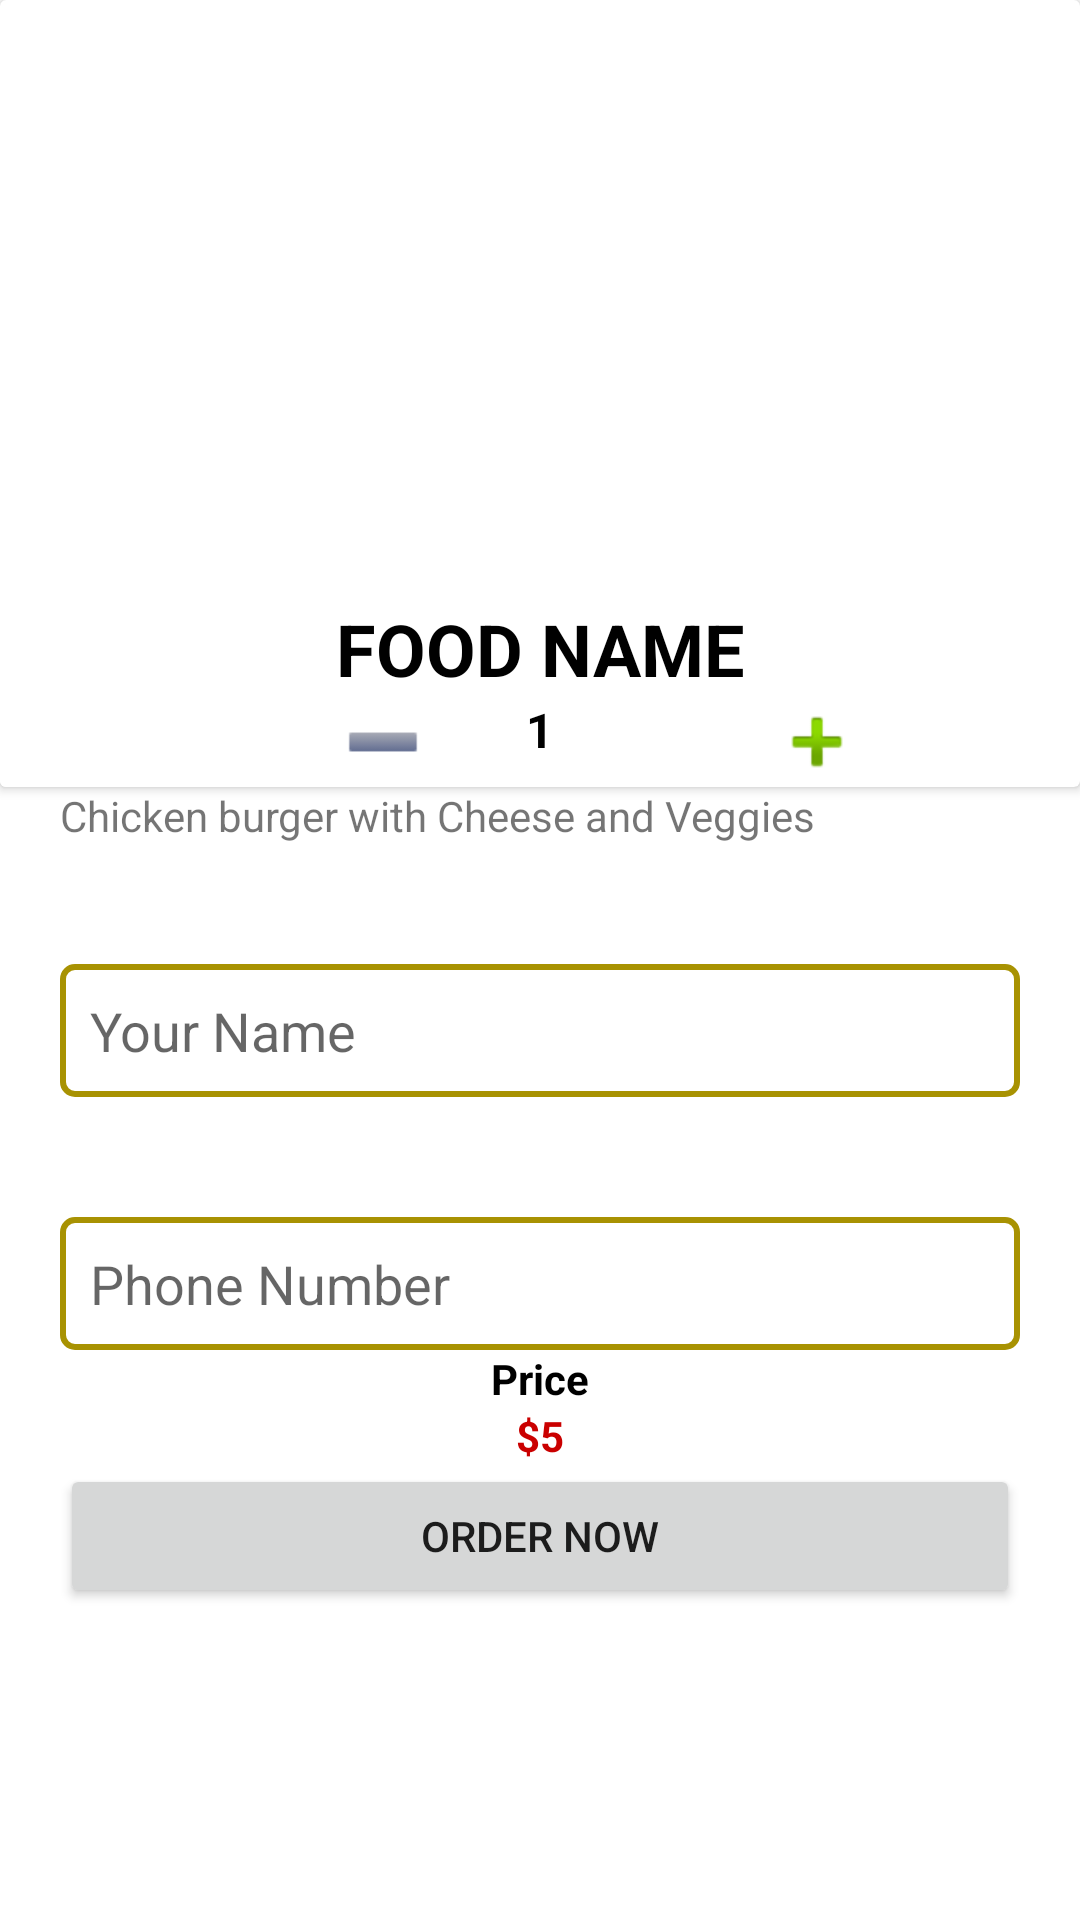

Locate icon controls on the screen. Image size 1080 x 1920, boxes as [left=x1, top=y1, right=x2, bottom=y2].
add: [left=791, top=716, right=843, bottom=768]
minus: [left=349, top=732, right=417, bottom=752]
